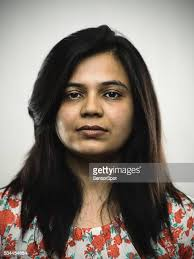s.black: (104, 101, 130, 146)
